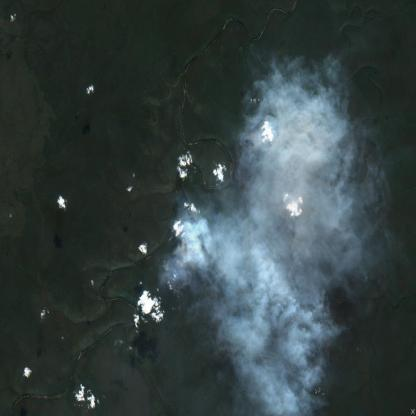fire: (159, 209, 212, 283)
